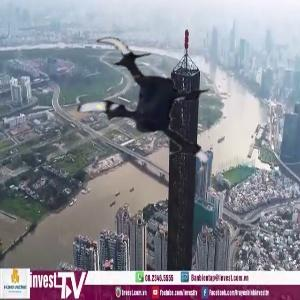drone: (56, 25, 227, 196)
